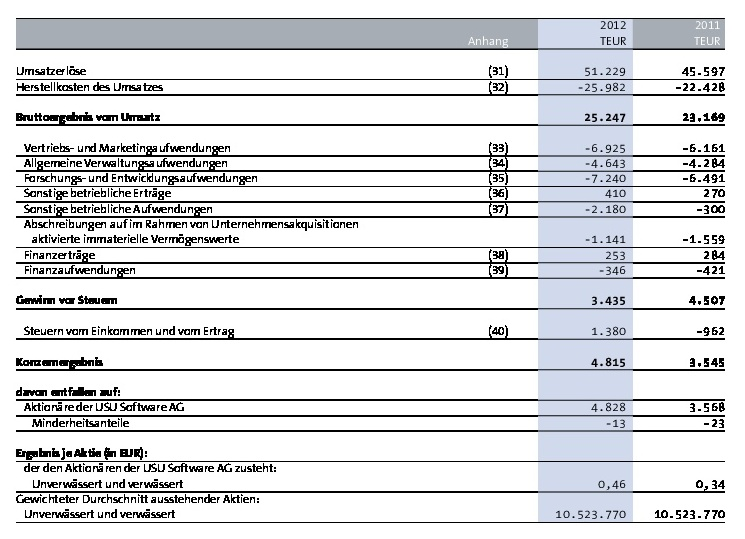table: (0, 0, 745, 539)
